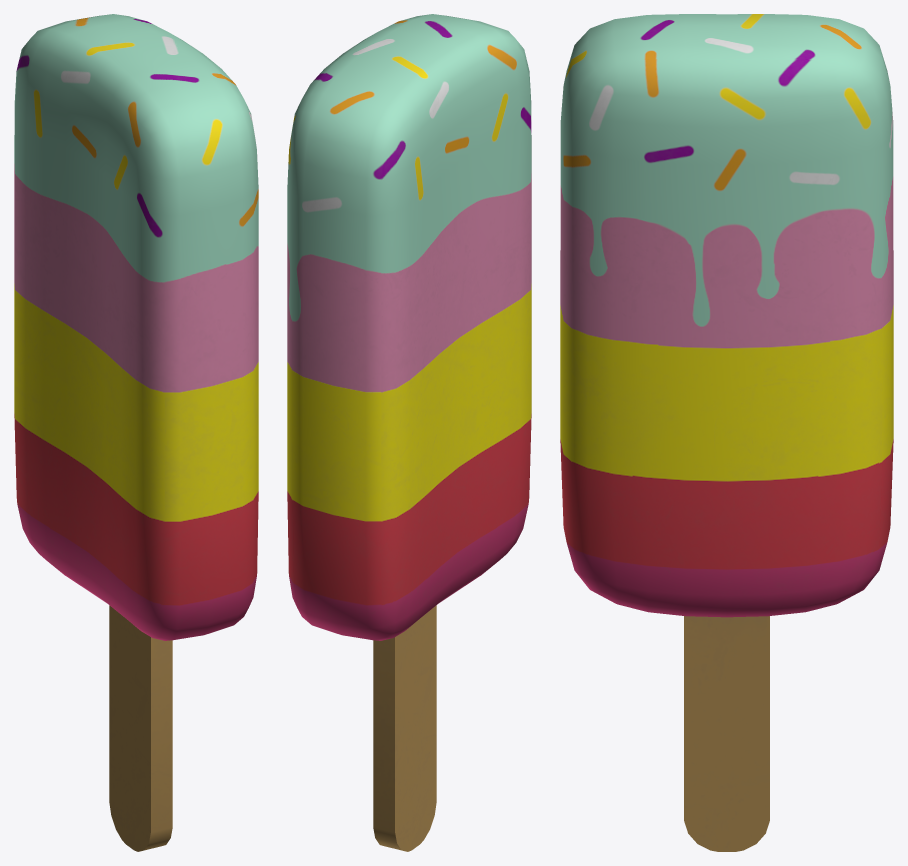
The model's file is uploads_files_2478546_icecream.FBX.
The picture shows the model from 3 angles, left to right: view 1: azimuth 30°, elevation 25°; view 2: azimuth 150°, elevation 25°; view 3: azimuth 270°, elevation 25°; orthographic projection. The views are drawn at different scales.
Visible parts, largest first — view 1: Box017; view 2: Box017; view 3: Box017.
Part boxes in pixels (x1,y1,x2,y2): Box017: (14,14,258,851); Box017: (287,14,531,851); Box017: (560,14,893,851).
Bounding box in the file's own units: 1.06 × 5.89 × 2.17.
1 material, 1 textured.
